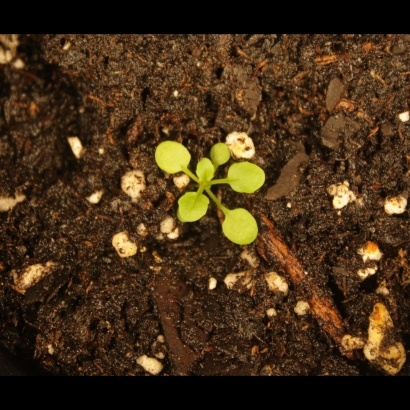leaf: (214, 202, 265, 249), (170, 187, 212, 229), (224, 159, 270, 197), (152, 137, 194, 177), (204, 138, 234, 168), (195, 156, 220, 186)
